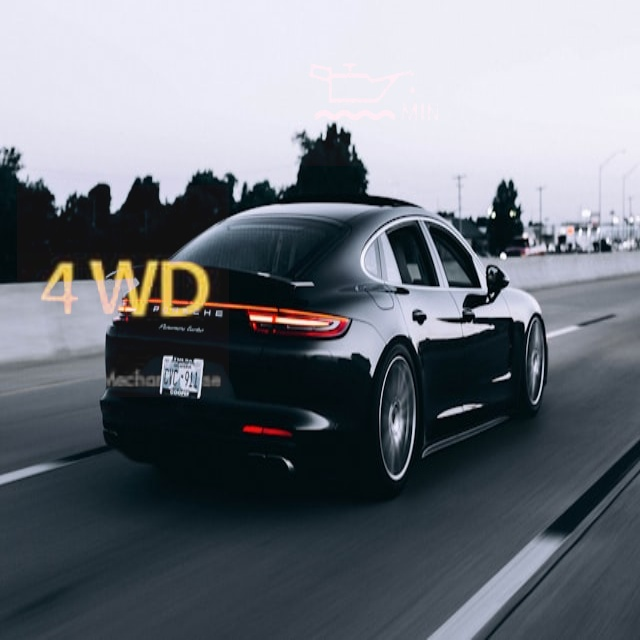symbol: (17, 185, 229, 397), (299, 20, 445, 166)
